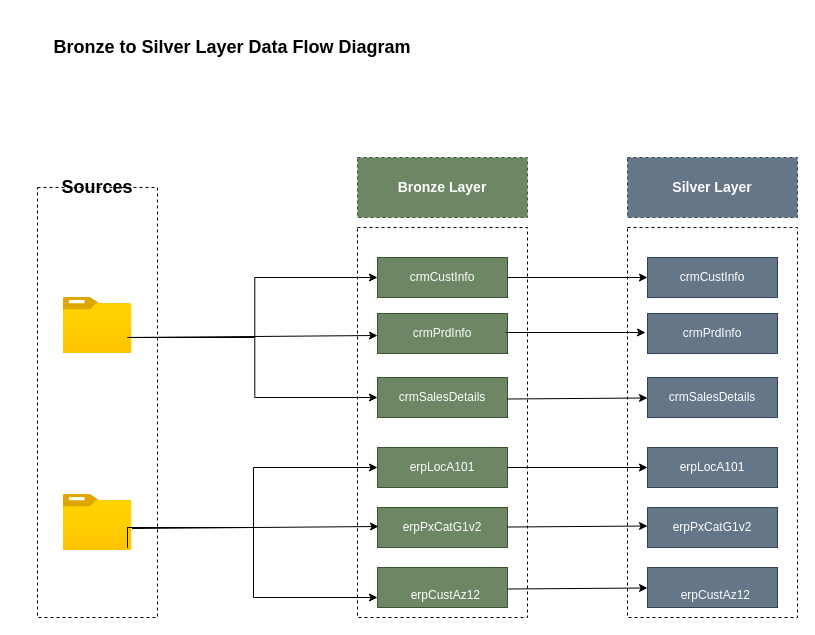
This 815x635 diagram has some shape labels left out. The centre of each missing label's shape, as x and y in pixels:
CRM: (x=97, y=325)
ERP: (x=97, y=522)
